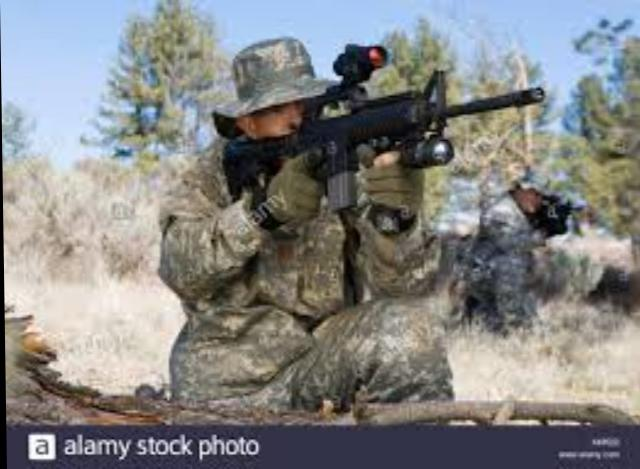other: (145, 25, 490, 414)
